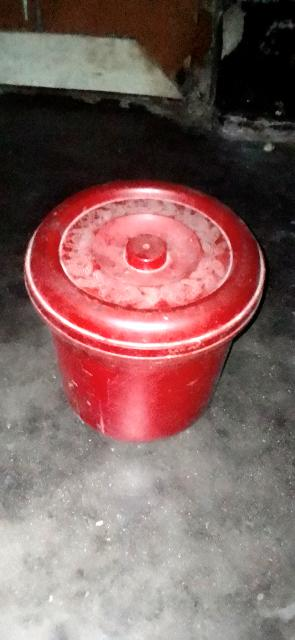hardplastic: (41, 190, 268, 433)
